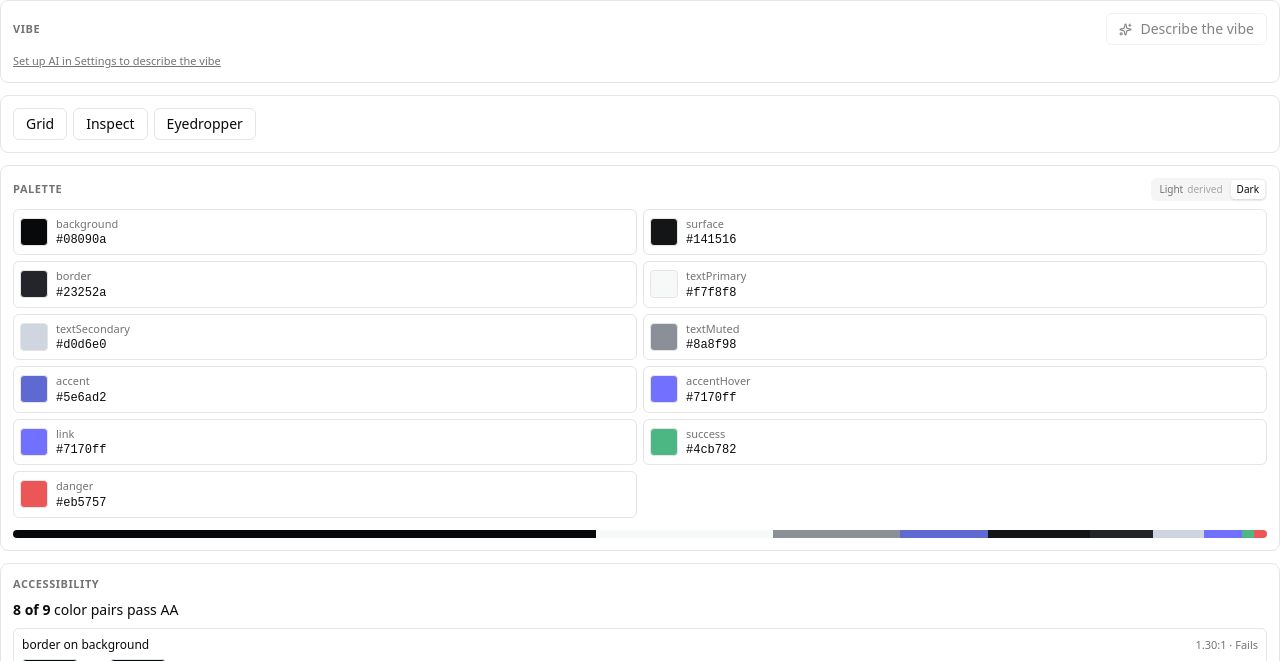
Scenario: T1.38 Inspect Port listener (SPC-27) › T1.38 a failed overlay.set leaves no listener behind; a double click sends once
Click the button "Inspect".
click(110, 124)  # box [73, 108, 148, 140]
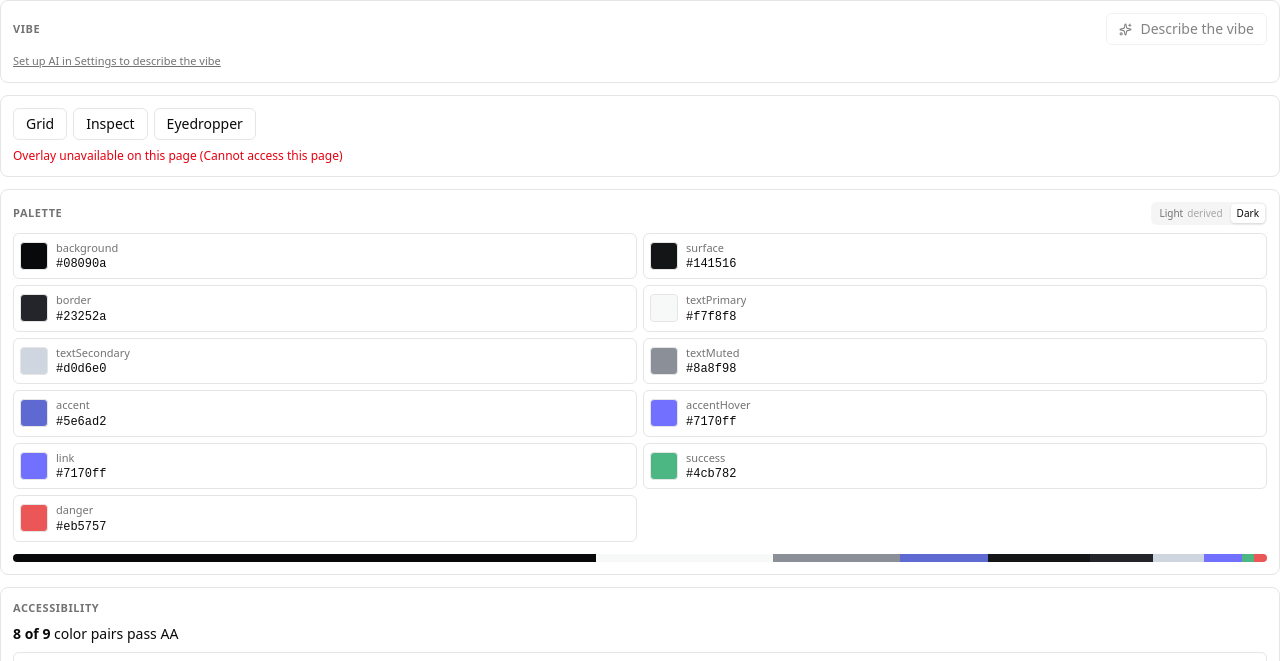
Result: the text "Overlay unavailable on this page (Cannot access this page)" is shown at [13, 146, 342, 164]
Click the button "Inspect".
click(110, 124)  # box [73, 108, 148, 140]
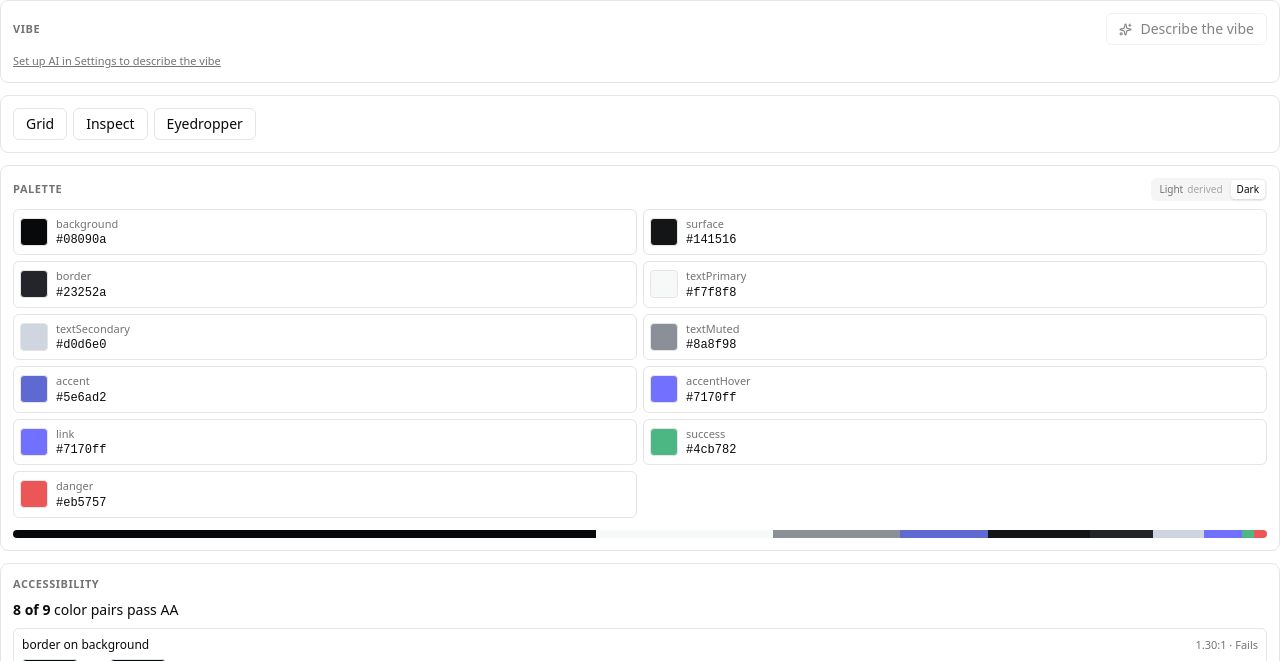
Click the button "Inspect".
click(110, 124)  # box [73, 108, 148, 140]
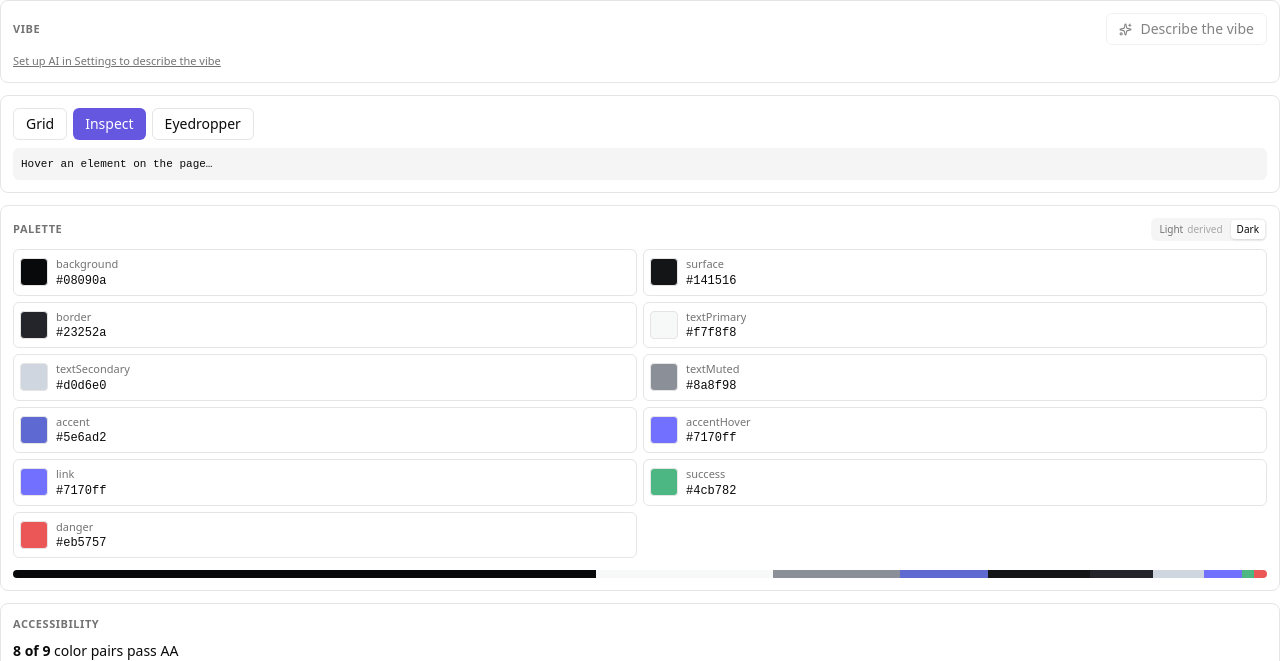
Result: the text "Hover an element on the page…" is shown at [13, 148, 1267, 180]
